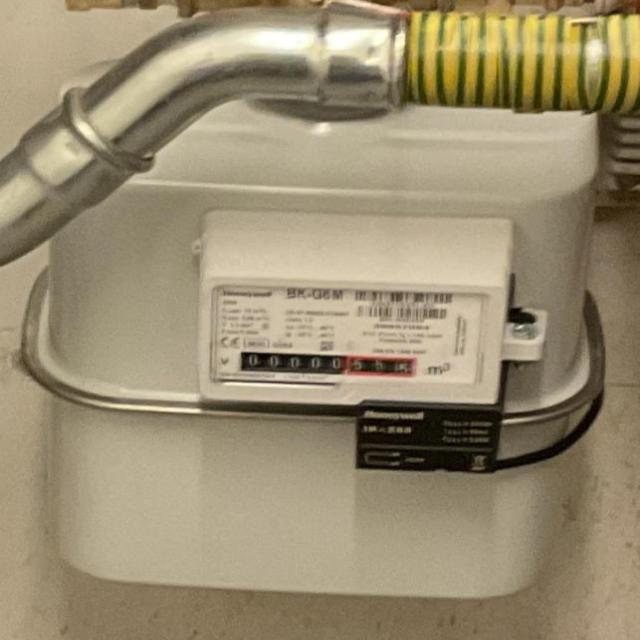gaz_meter: (207, 283, 486, 398)
indication: (241, 349, 418, 379)
